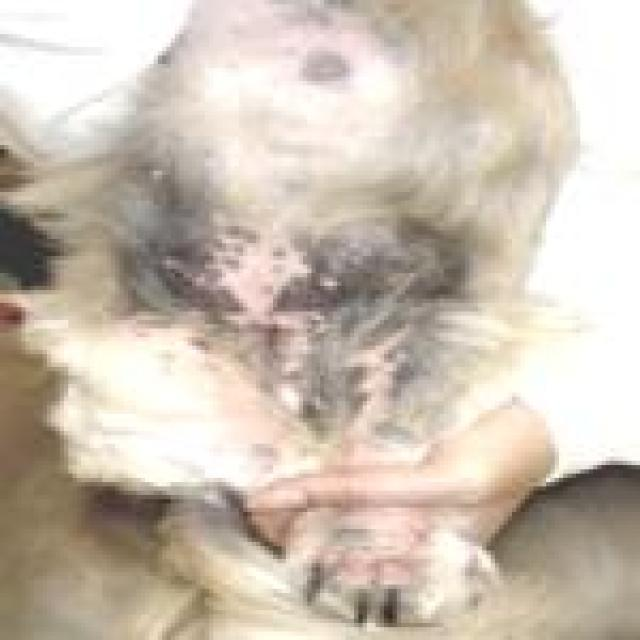fungal infection: (204, 217, 314, 312), (219, 337, 325, 431), (317, 512, 440, 588), (352, 311, 417, 423)
